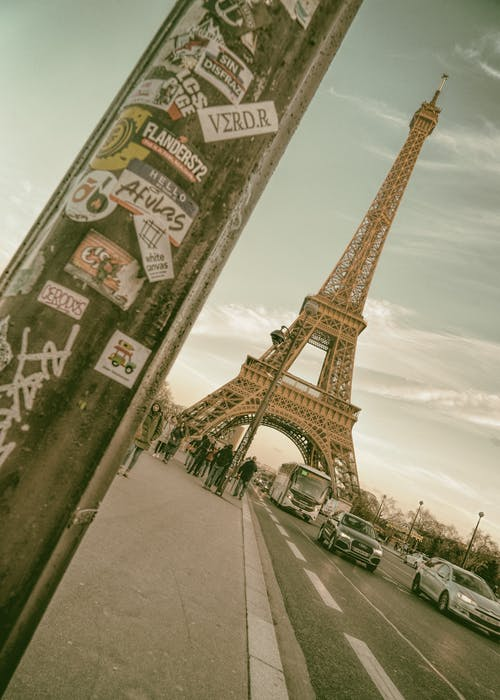eiffel tower: (171, 39, 466, 507)
